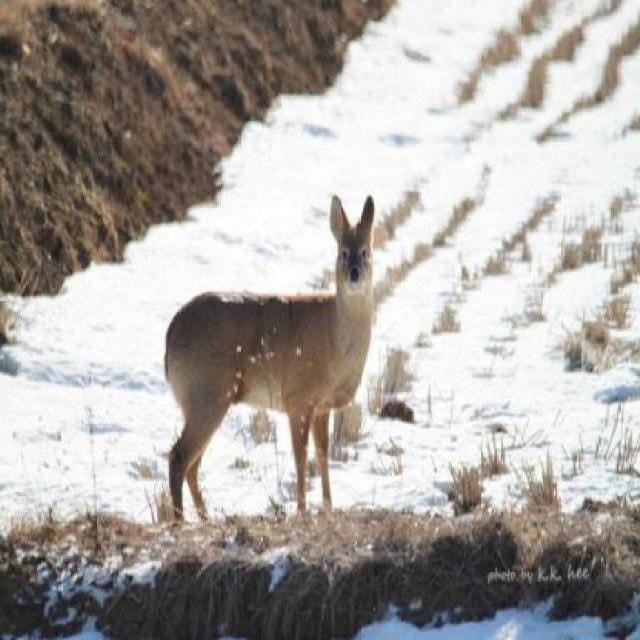deer: (154, 189, 383, 528)
